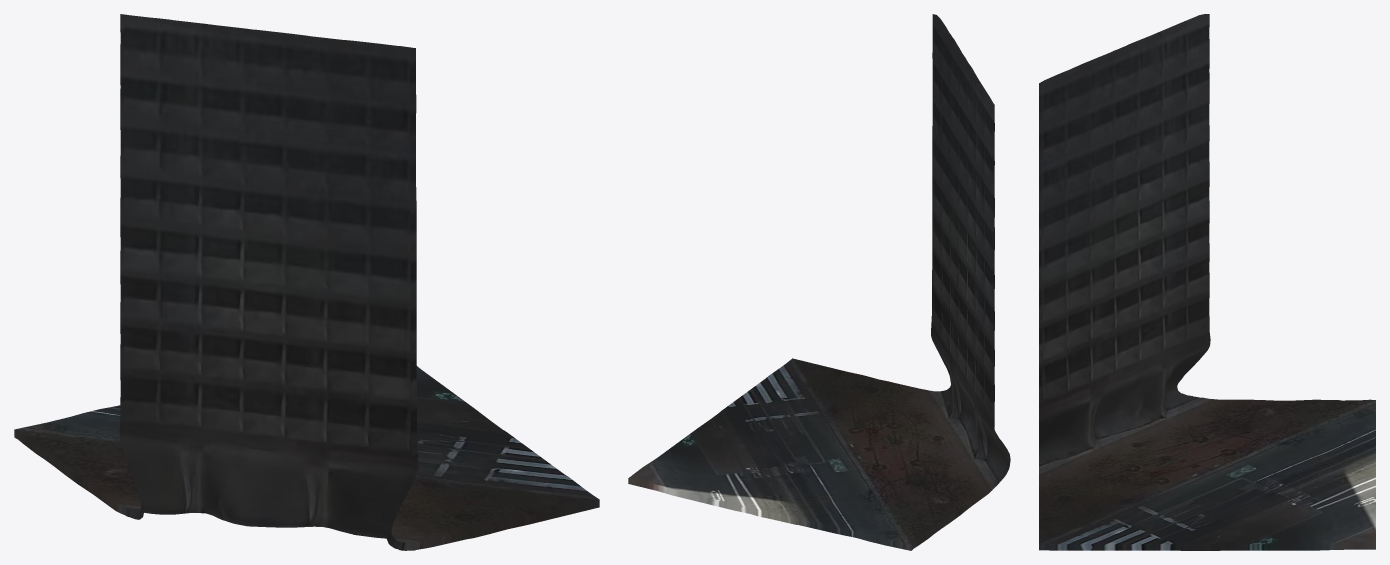
File: z20-167776-405235-h0-yup-uvflip-v3-world.glb
The picture shows the model from 3 angles, left to right: view 1: azimuth 30°, elevation 25°; view 2: azimuth 150°, elevation 25°; view 3: azimuth 270°, elevation 25°; orthographic projection. The views are drawn at different scales.
Size of the model in its own units: 30.16 by 39.28 by 30.32.
1 material, 1 textured.
